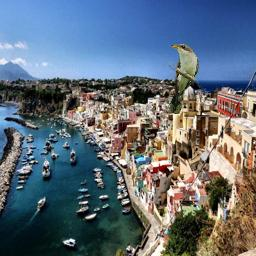Cuckoo: (168, 44, 199, 114)
